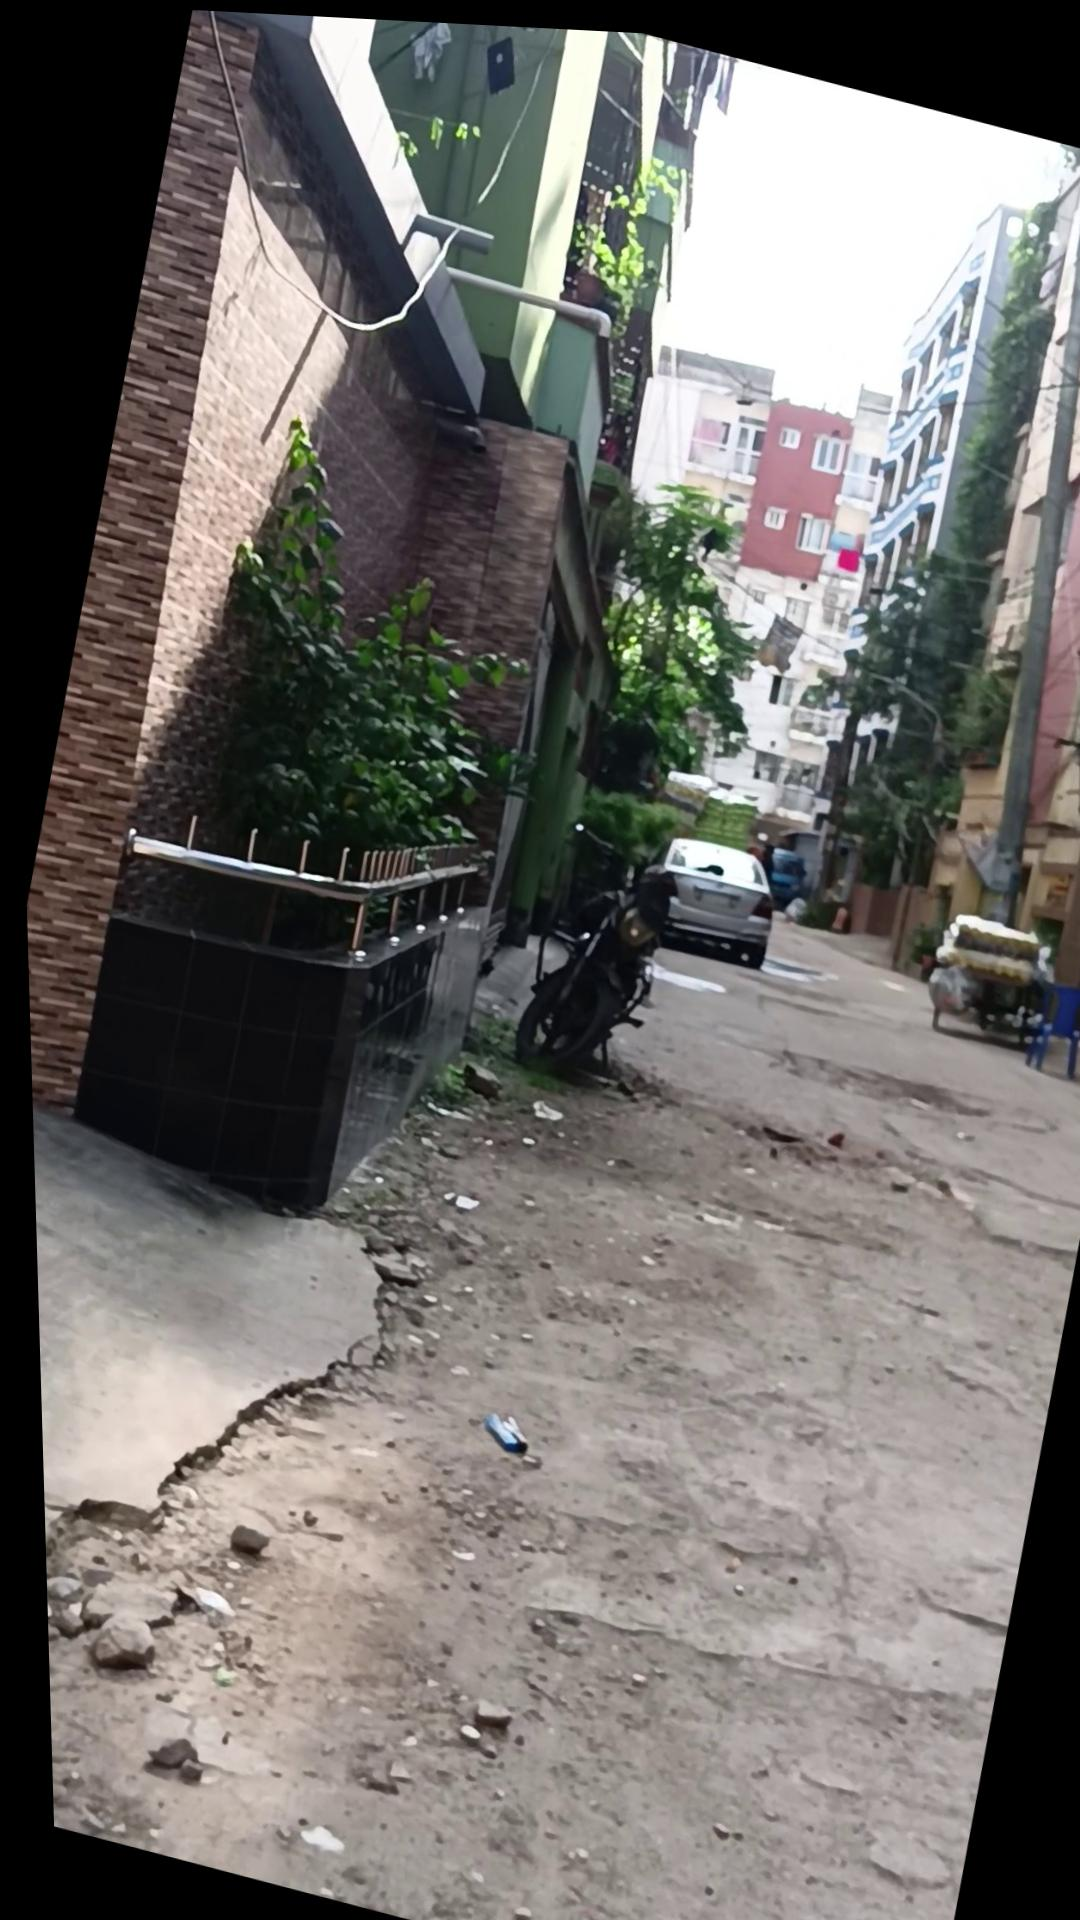Broken-road: (16, 702, 1080, 1920)
Car: (619, 816, 780, 965)
Light-pole: (493, 805, 691, 1096)
Obstacle: (925, 185, 1080, 920)
